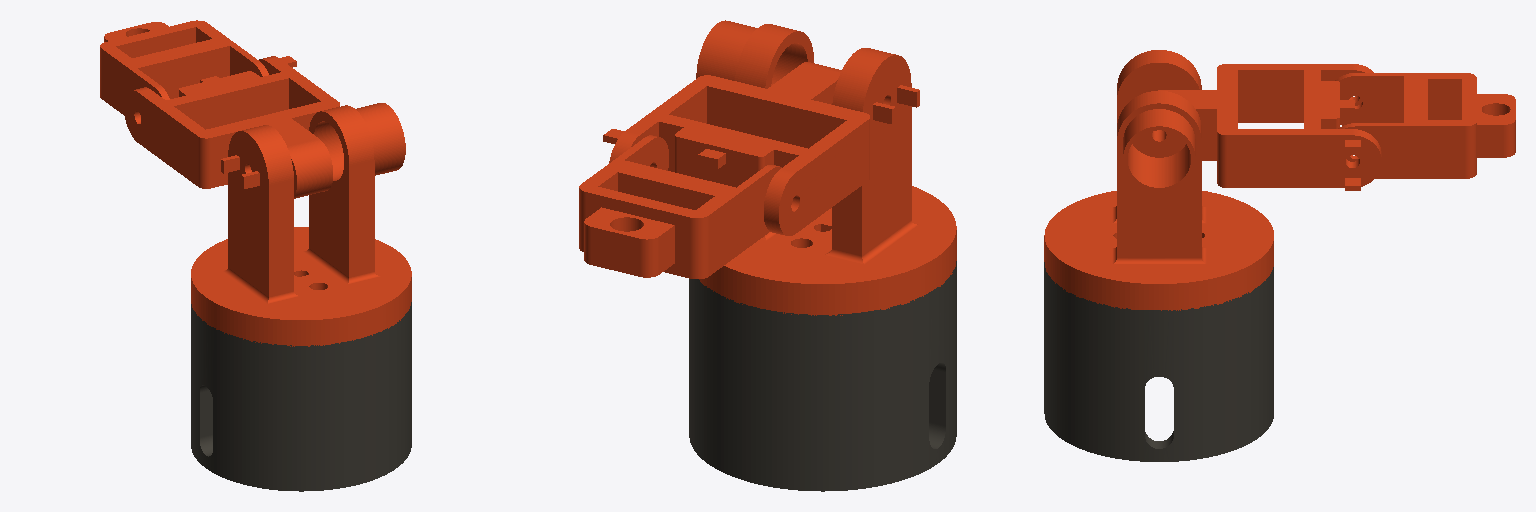
robot.urdf — onshape:
<robot name="onshape">
<link name="base_1">
<visual>
<origin xyz="0 0 0" rpy="0 -0 0" />
<geometry>
<mesh filename="package/my_robot_description/base.stl" scale="0.008 0.008 0.008"/>
</geometry>
<material name="base_material">
<color rgba="0.301961 0.290196 0.262745 1.0"/>
</material>
</visual>
<collision>
<origin xyz="0 0 0" rpy="0 -0 0" />
<geometry>
<mesh filename="package/my_robot_description/base.stl" scale="0.008 0.008 0.008"/>
</geometry>
<material name="base_material">
<color rgba="0.301961 0.290196 0.262745 1.0"/>
</material>
</collision>
<inertial>
<origin xyz="-6.0566e-19 3.12095e-18 0.020169" rpy="0 0 0"/>
<mass value="0.39382" />
<inertia ixx="0.000177195" ixy="0"  ixz="0" iyy="0.000177195" iyz="0" izz="0.000123463" />
</inertial>
</link>

<link name="part1_1">
<visual>
<origin xyz="0 0 0" rpy="0 -0 0" />
<geometry>
<mesh filename="package/my_robot_description/link1.stl" scale="0.008 0.008 0.008"/>
</geometry>
<material name="part1_material">
<color rgba="0.866667 0.321569 0.156863 1.0"/>
</material>
</visual>
<collision>
<origin xyz="0 0 0" rpy="0 -0 0" />
<geometry>
<mesh filename="package/my_robot_description/link1.stl" scale="0.008 0.008 0.008"/>
</geometry>
<material name="part1_material">
<color rgba="0.866667 0.321569 0.156863 1.0"/>
</material>
</collision>
<inertial>
<origin xyz="1.04896e-19 1.19328e-18 0.027892" rpy="0 0 0"/>
<mass value="0.298971" />
<inertia ixx="0.000123868" ixy="0"  ixz="0" iyy="0.000123868" iyz="0" izz="9.58869e-05" />
</inertial>
</link>

<link name="part2_1">
<visual>
<origin xyz="0 0 0" rpy="0 -0 0" />
<geometry>
<mesh filename="package/my_robot_description/link2.stl" scale="0.008 0.008 0.008"/>
</geometry>
<material name="part1_material">
<color rgba="0.866667 0.321569 0.156863 1.0"/>
</material>
</visual>
<collision>
<origin xyz="0 0 0" rpy="0 -0 0" />
<geometry>
<mesh filename="package/my_robot_description/link2.stl" scale="0.008 0.008 0.008"/>
</geometry>
<material name="part1_material">
<color rgba="0.866667 0.321569 0.156863 1.0"/>
</material>
</collision>
<inertial>
<origin xyz="1.04896e-19 1.19328e-18 0.027892" rpy="0 0 0"/>
<mass value="0.298971" />
<inertia ixx="0.000123868" ixy="0"  ixz="0" iyy="0.000123868" iyz="0" izz="9.58869e-05" />
</inertial>
</link>

<link name="part3_1">
<visual>
<origin xyz="0 0 0" rpy="0 -0 0" />
<geometry>
<mesh filename="package/my_robot_description/link3.stl" scale="0.008 0.008 0.008"/>
</geometry>
<material name="part1_material">
<color rgba="0.866667 0.321569 0.156863 1.0"/>
</material>
</visual>
<collision>
<origin xyz="0 0 0" rpy="0 -0 0" />
<geometry>
<mesh filename="package/my_robot_description/base.stl" scale="0.008 0.008 0.008"/>
</geometry>
<material name="part1_material">
<color rgba="0.866667 0.321569 0.156863 1.0"/>
</material>
</collision>
<inertial>
<origin xyz="0 0 0" rpy="0 0 0"/>
<mass value="0.298971" />
<inertia ixx="0.000123868" ixy="0"  ixz="0" iyy="0.000123868" iyz="0" izz="9.58869e-05" />
</inertial>
</link>

<joint name="part3" type="revolute">
<origin xyz="0 0.65 0" rpy="0 0 0" />
<parent link="part2_1" />
<child link="part3_1" />
<axis xyz="1 0 0"/>
<limit effort="10" velocity="200" lower="0" upper="1.53"/>
<joint_properties friction="0.0"/>
</joint>


<joint name="part2" type="revolute">
<origin xyz="0 0 0.5" rpy="0 0 0" />
<parent link="part1_1" />
<child link="part2_1" />
<axis xyz="1 0 0"/>
<limit effort="10" velocity="200" lower="0" upper="3"/>
<joint_properties friction="0.0"/>
</joint>

<joint name="part1" type="revolute">
<origin xyz="0 0 0.55" rpy="0 0 0" />
<parent link="base_1" />
<child link="part1_1" />
<axis xyz="0 0 -1"/>
<limit effort="10" velocity="200" lower="0" upper="3"/>
<joint_properties friction="0.0"/>
</joint>


</robot>

--- What the picture shows (computed from the rendered views, not written in the file) ---
The picture shows the robot from 3 angles, left to right: view 1: azimuth 30°, elevation 25°; view 2: azimuth 150°, elevation 25°; view 3: azimuth 270°, elevation 25°; orthographic projection.
Model onshape with 4 links and 3 joints (3 revolute), rooted at base_1, posed every joint at zero.
Visible links, largest first — view 1: part1_1, base_1, part2_1, part3_1; view 2: base_1, part1_1, part2_1, part3_1; view 3: part1_1, base_1, part2_1, part3_1.
Link boxes in pixels (bbox=[...]): part1_1: bbox=[191, 103, 411, 346]; base_1: bbox=[191, 302, 411, 491]; part2_1: bbox=[124, 56, 339, 198]; part3_1: bbox=[100, 20, 268, 115]; base_1: bbox=[689, 261, 956, 491]; part1_1: bbox=[696, 20, 956, 315]; part2_1: bbox=[603, 62, 869, 235]; part3_1: bbox=[579, 135, 781, 278]; part1_1: bbox=[1044, 50, 1273, 310]; base_1: bbox=[1044, 262, 1273, 461]; part2_1: bbox=[1133, 64, 1381, 190]; part3_1: bbox=[1335, 73, 1515, 178].
Bounding box of the posed robot: 0.76 × 1.56 × 1.23 m (x, y, z).
Meshes: 4 distinct files referenced, 4 mesh visuals loaded (4 binary STL).
